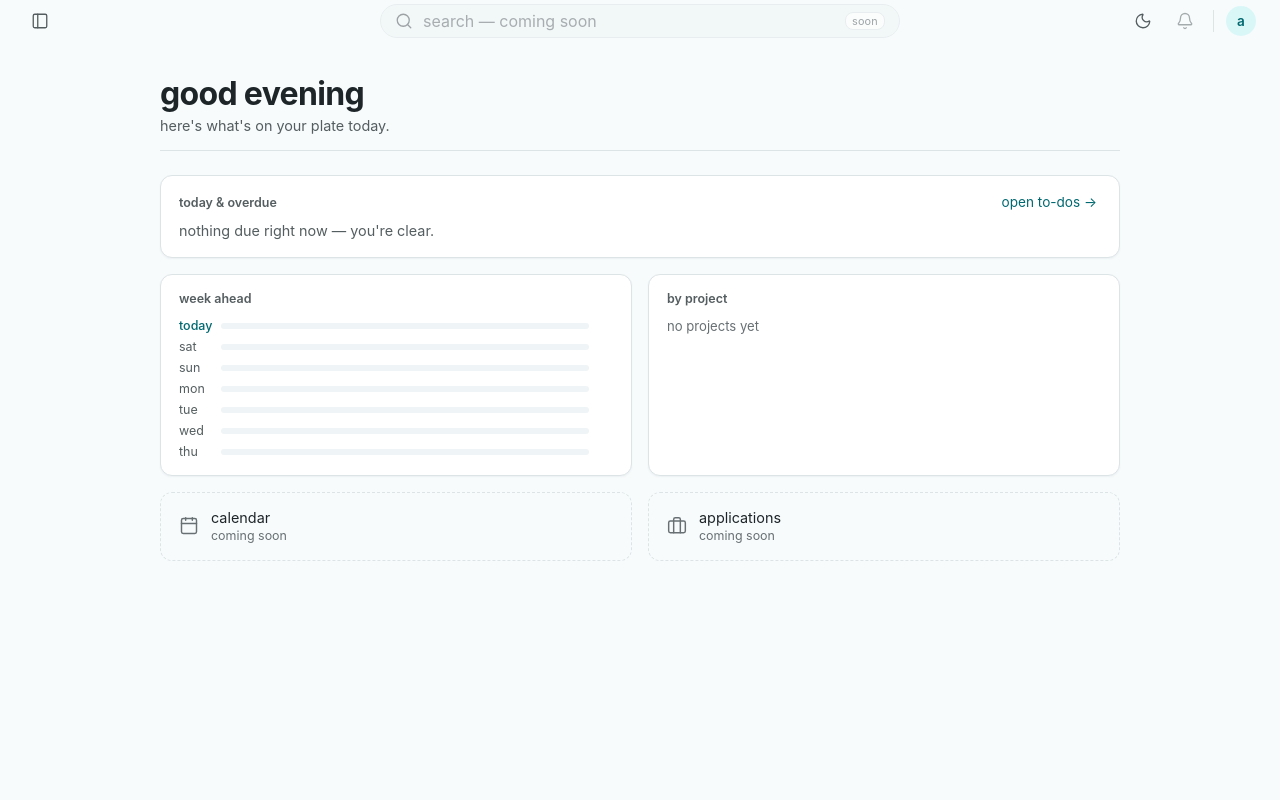
Test: TodoDashboard › creates a task from the create tile
The image size is (1280, 800).
Step 1. Click the button named "toggle sidebar" → coordinates (40, 21), box [24,5,56,37]
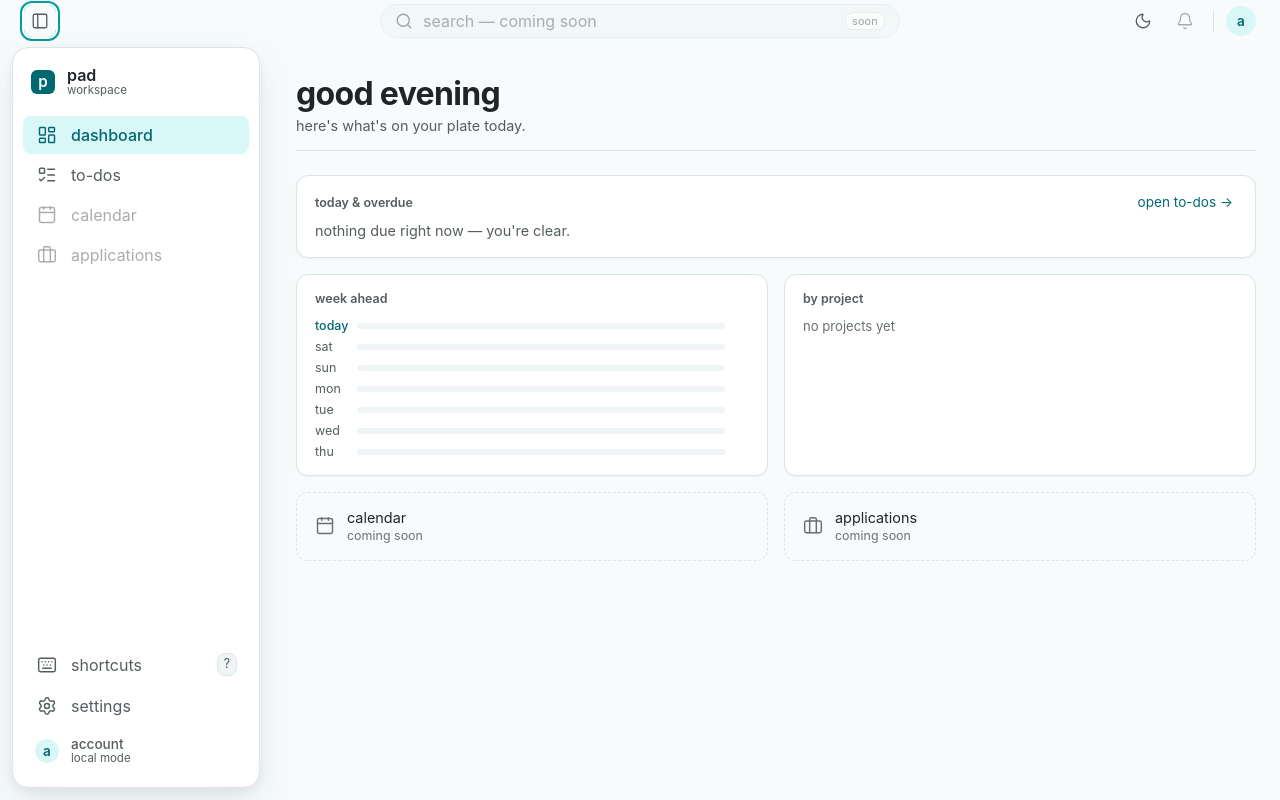
Step 2. Click the button "to-dos" → coordinates (136, 175), box [23,156,249,194]
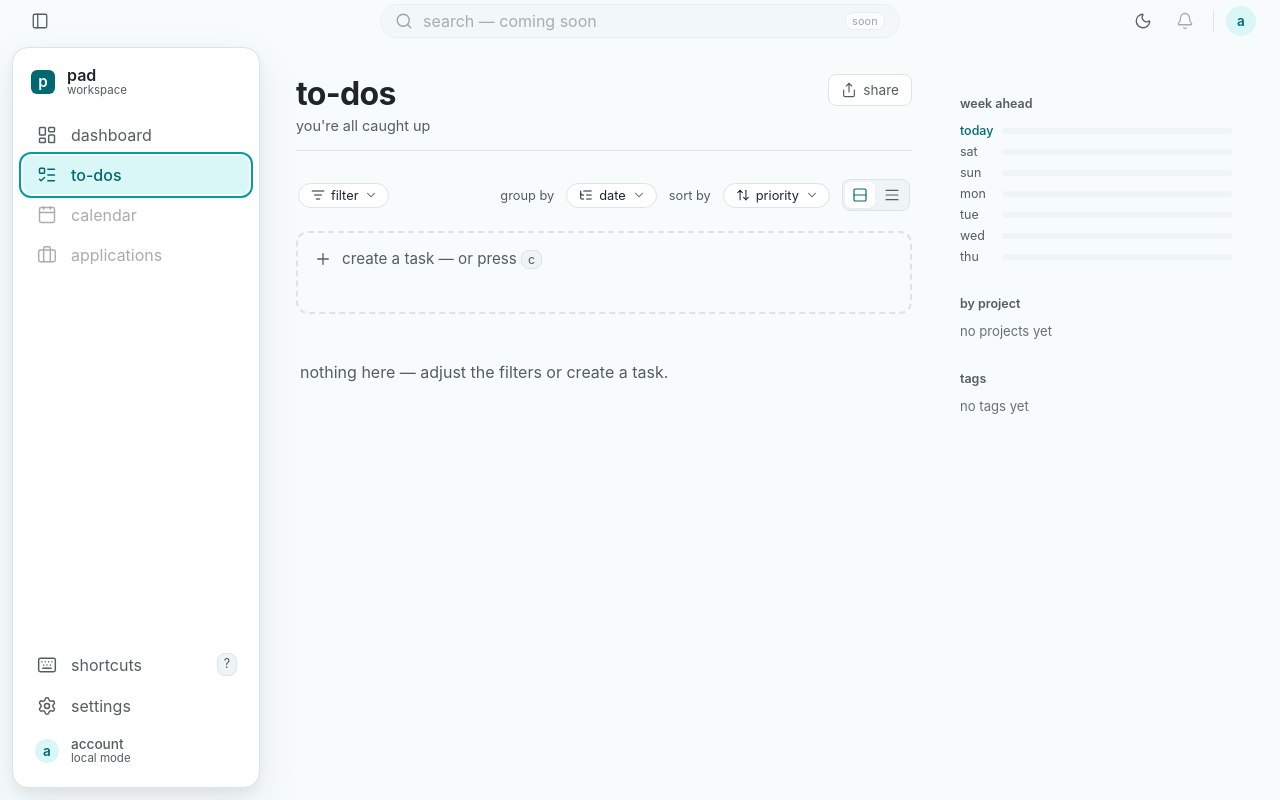
Step 3. Click the button "create a task — or press c" → coordinates (432, 258), box [296,231,912,314]
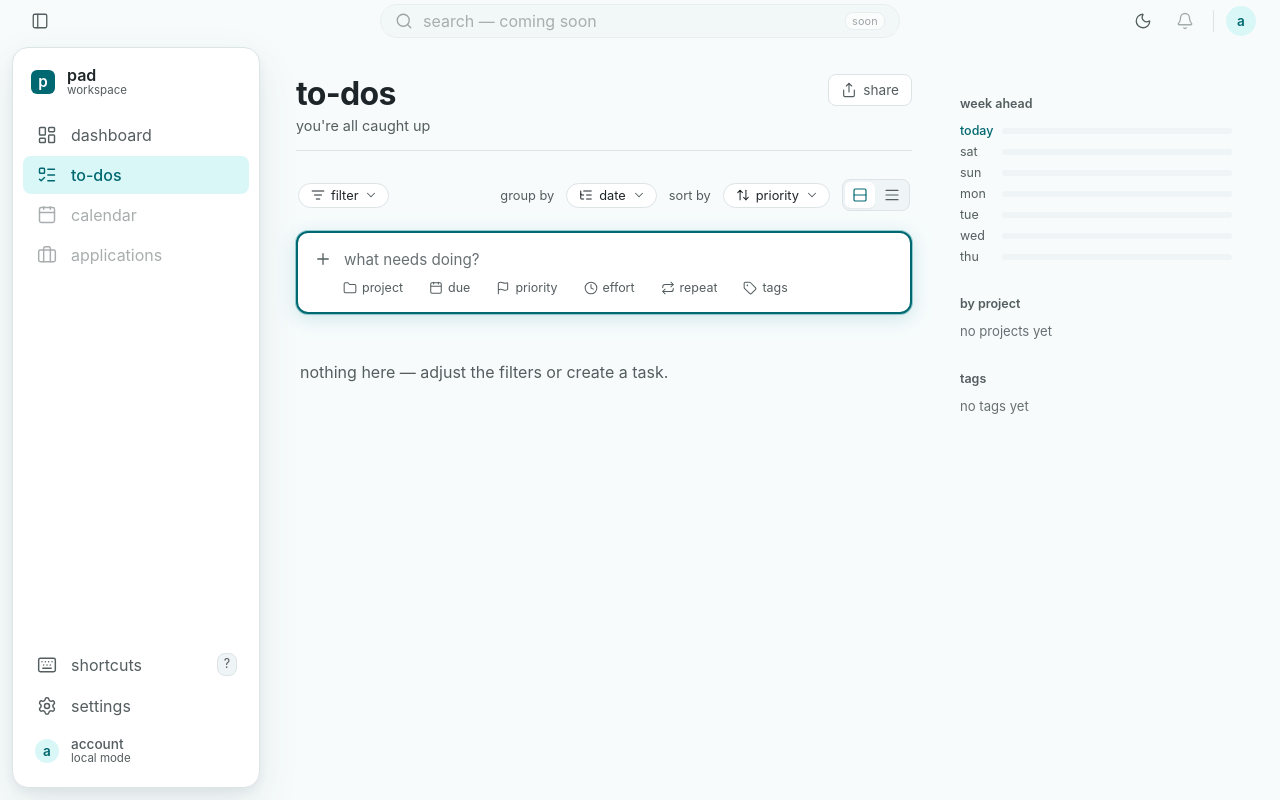
Step 4. Type "buy milk" into the field named "new task title" → coordinates (613, 259), box [342,248,884,270]
Then press Enter
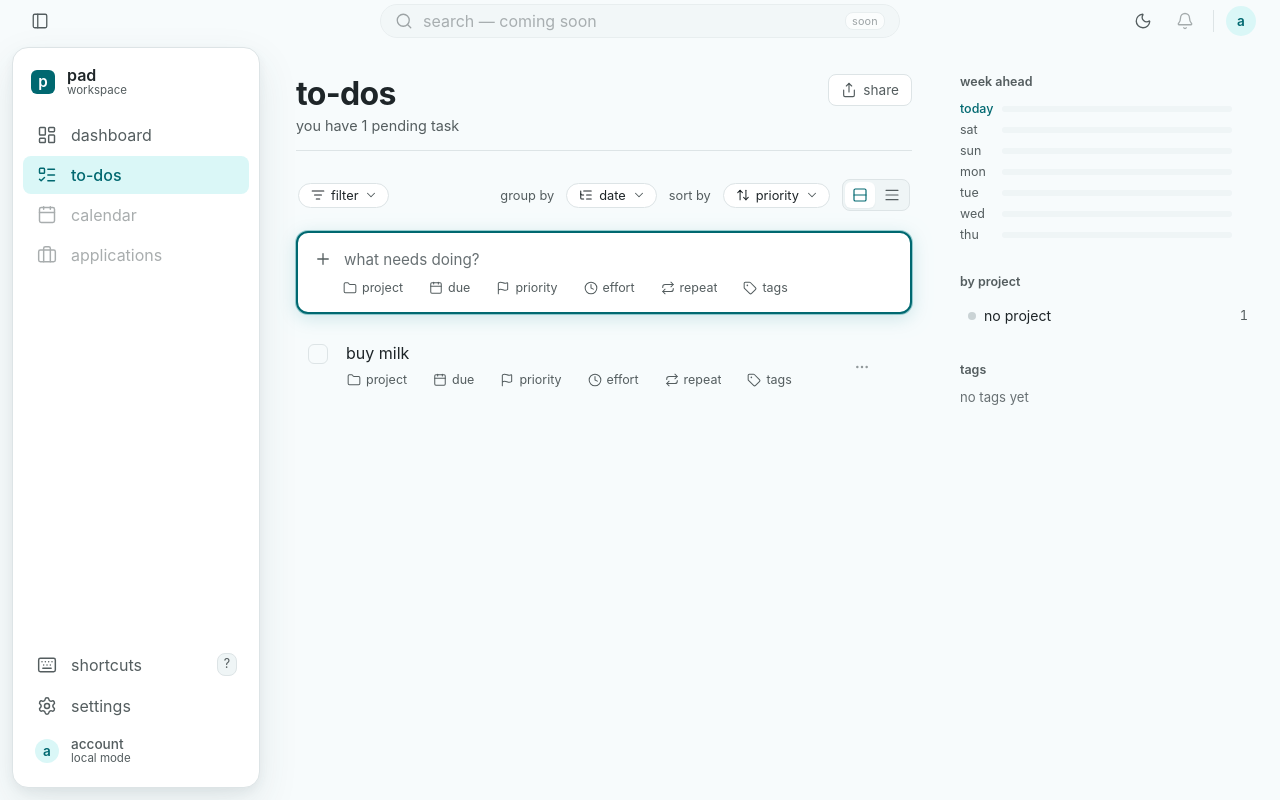
Result: the button "buy milk" is shown at [346,343,409,363]
Result: the text "you have 1 pending task" is shown at [296,117,459,134]
